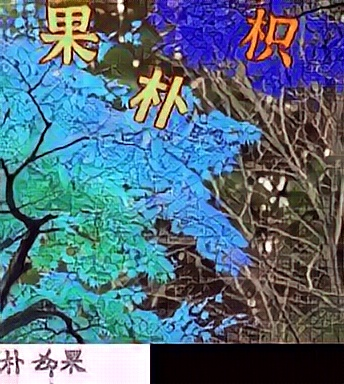B9FB: (37, 4, 101, 70)
C6D3: (125, 64, 189, 130)
E8D7: (238, 4, 302, 70)
